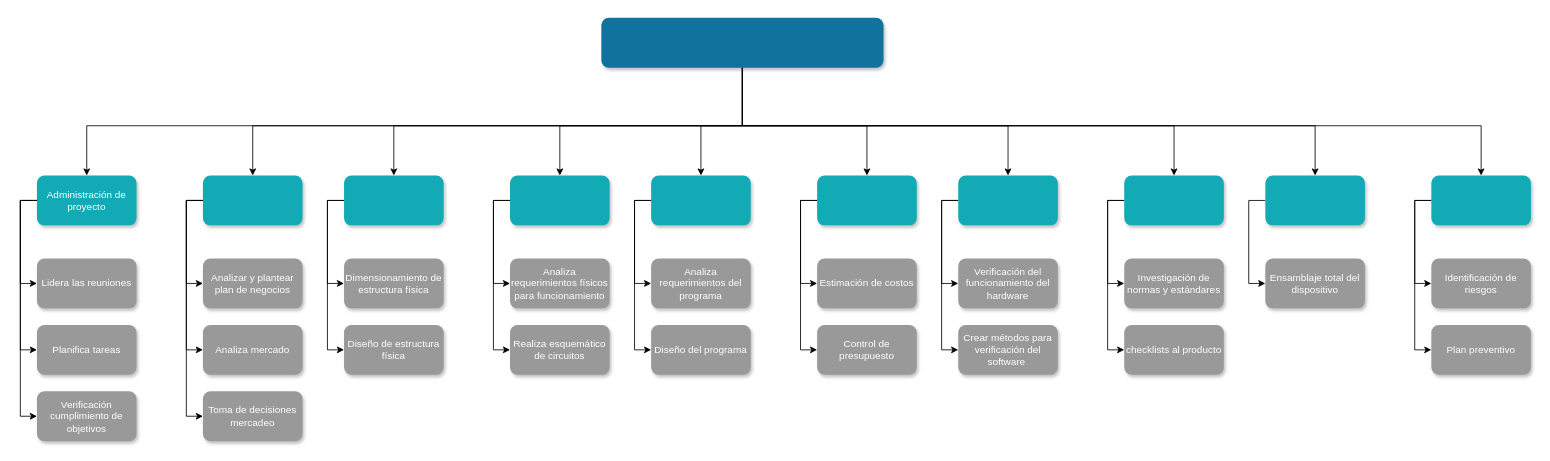
Some shapes in this 1550 by 461 pixel diagram are drawn without their labels. The shapes that lost their labels are listed below. From the top down, each one's centre as x and y in pixels, then its label:
At (743,43): "Monitor portátil de Bioimpedancia Eléctrica".
At (253,201): "Business Intelligence".
At (394,201): "Diseño mecánico".
At (560,201): "Diseño de Hardware".
At (701,201): "Diseño Software".
At (867,201): "Asesor Financiero".
At (1008,201): "Verificación y Validación".
At (1174,201): "Normas".
At (1316,201): "Integrador".
At (1482,201): "Gestor de Riesgos".
